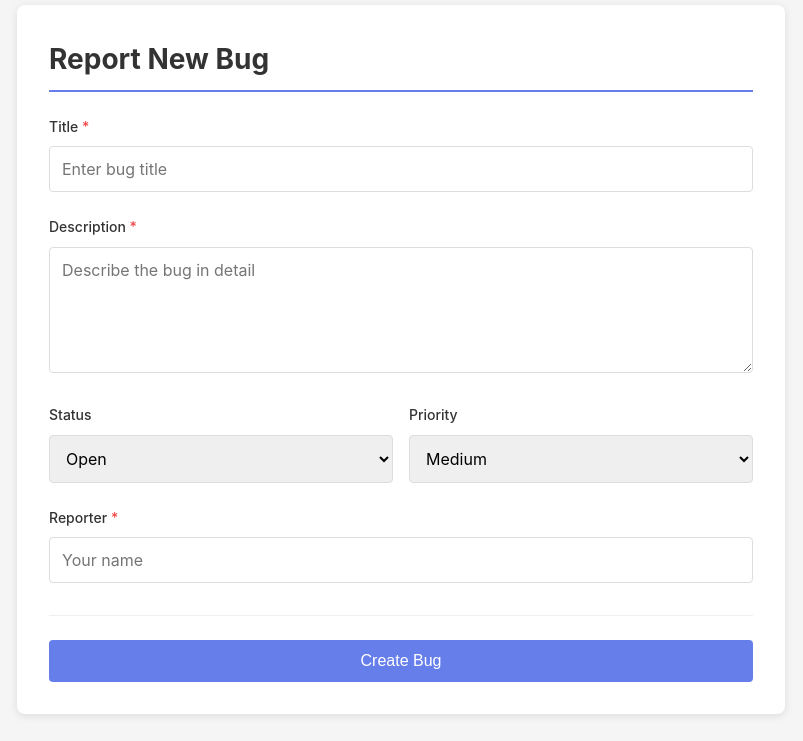
Scenario: BugForm Component › Form Validation › should show error when description is empty on submit
The image size is (803, 741).
In the field labelled "Title *": (401, 169) [49,146,753,192], type "Test Title"
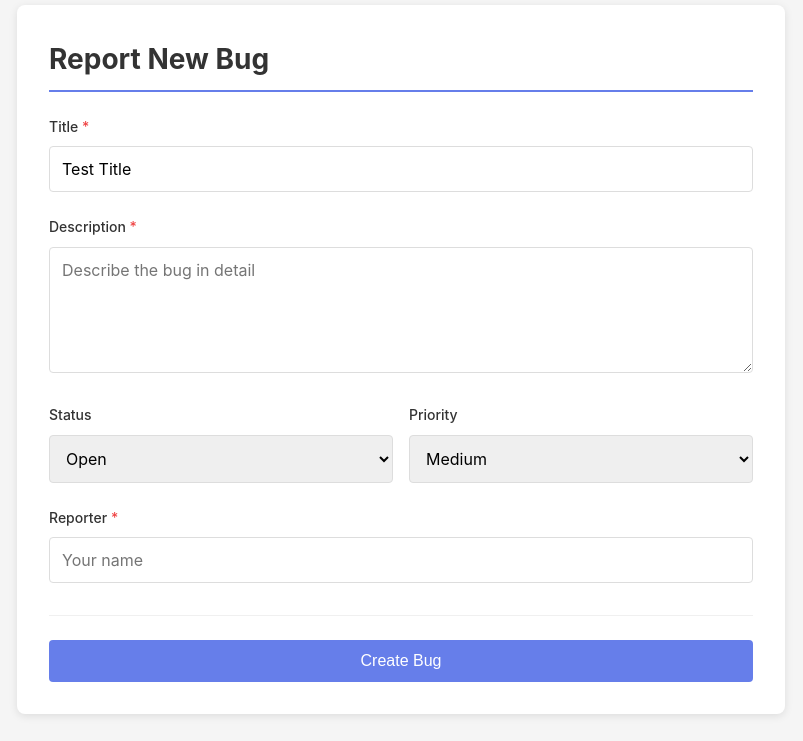
Click the button "Create Bug": (401, 661) [49,640,753,682]
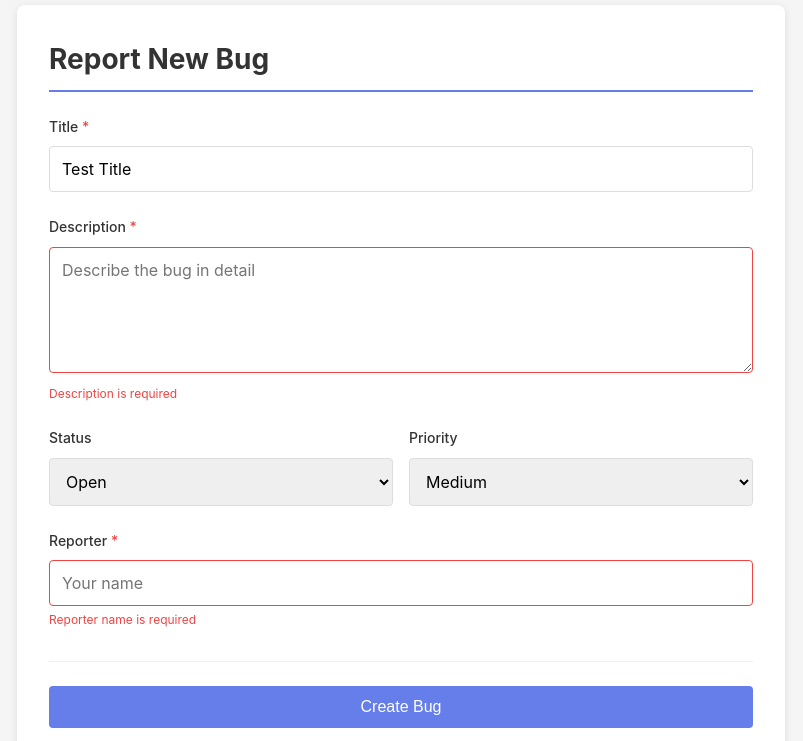
Now the text "Description is required" is shown, box [49,386,177,401]
